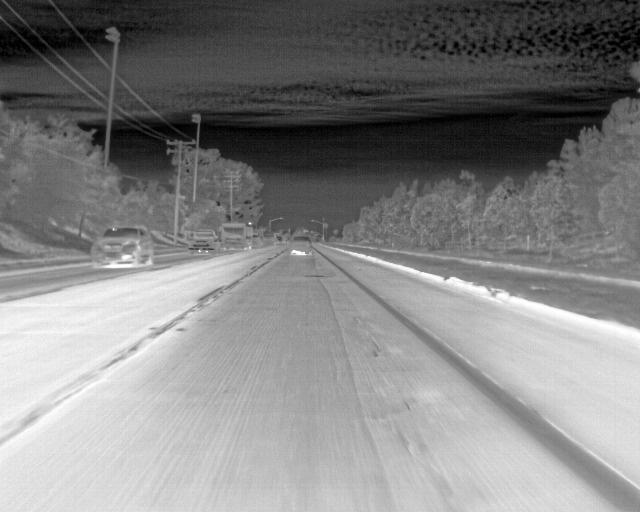car: (89, 224, 155, 270), (190, 230, 220, 252), (291, 236, 311, 255)
